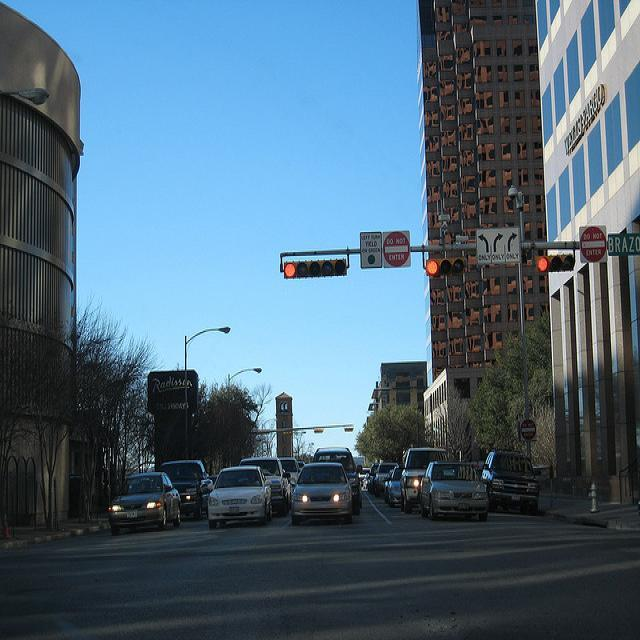fire_hydrant: (587, 481, 599, 512)
